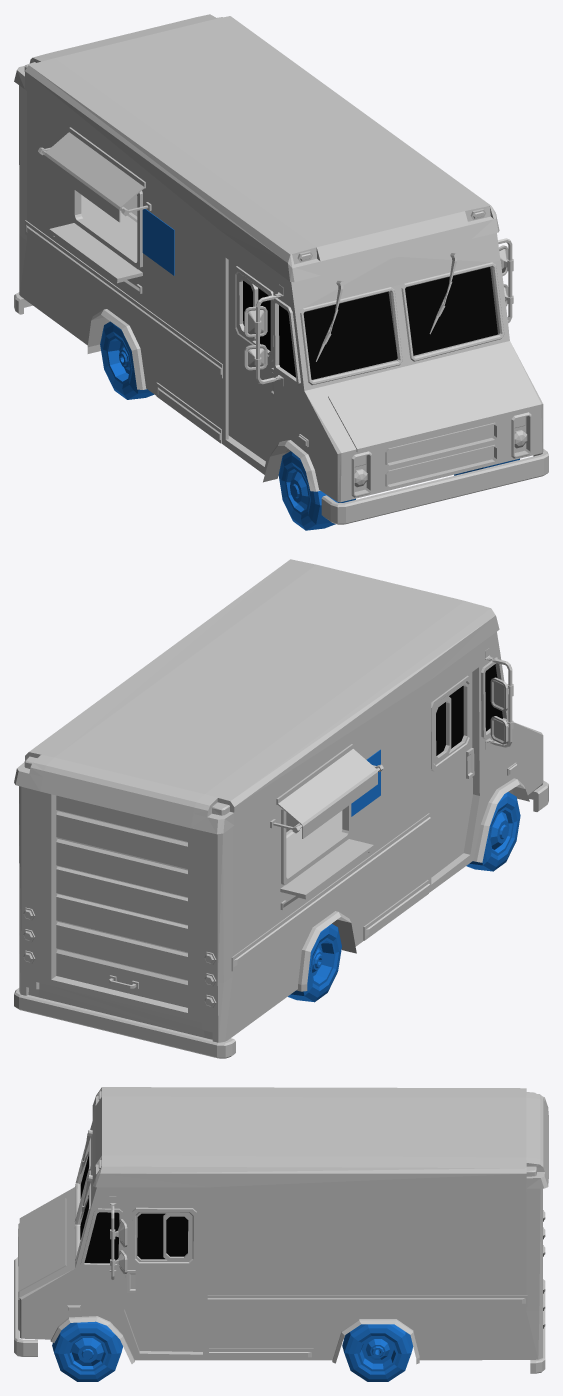
The model's file is HALF_food_truck_1.fbx.
3 views of the same model, one above another, from view 1: azimuth 30°, elevation 25°; view 2: azimuth 150°, elevation 25°; view 3: azimuth 270°, elevation 25° (orthographic). The views are drawn at different scales.
Parts seen in each view (by area): view 1: Symmetry_11, Cylinder_3, Cylinder_5; view 2: Symmetry_11, Cylinder_3, Cylinder_5; view 3: Symmetry_11, Cylinder_5, Cylinder_2.
Boxes of the visible parts, x1=… form: Symmetry_11: x1=14, y1=14, x2=548, y2=524; Cylinder_3: x1=278, y1=451, x2=355, y2=530; Cylinder_5: x1=100, y1=321, x2=154, y2=399; Symmetry_11: x1=14, y1=559, x2=548, y2=1058; Cylinder_3: x1=466, y1=792, x2=520, y2=871; Cylinder_5: x1=288, y1=924, x2=341, y2=1002; Symmetry_11: x1=14, y1=1087, x2=548, y2=1373; Cylinder_5: x1=342, y1=1324, x2=413, y2=1381; Cylinder_2: x1=52, y1=1321, x2=122, y2=1381.
Bounding box in the file's own units: 241 × 234 × 521.
